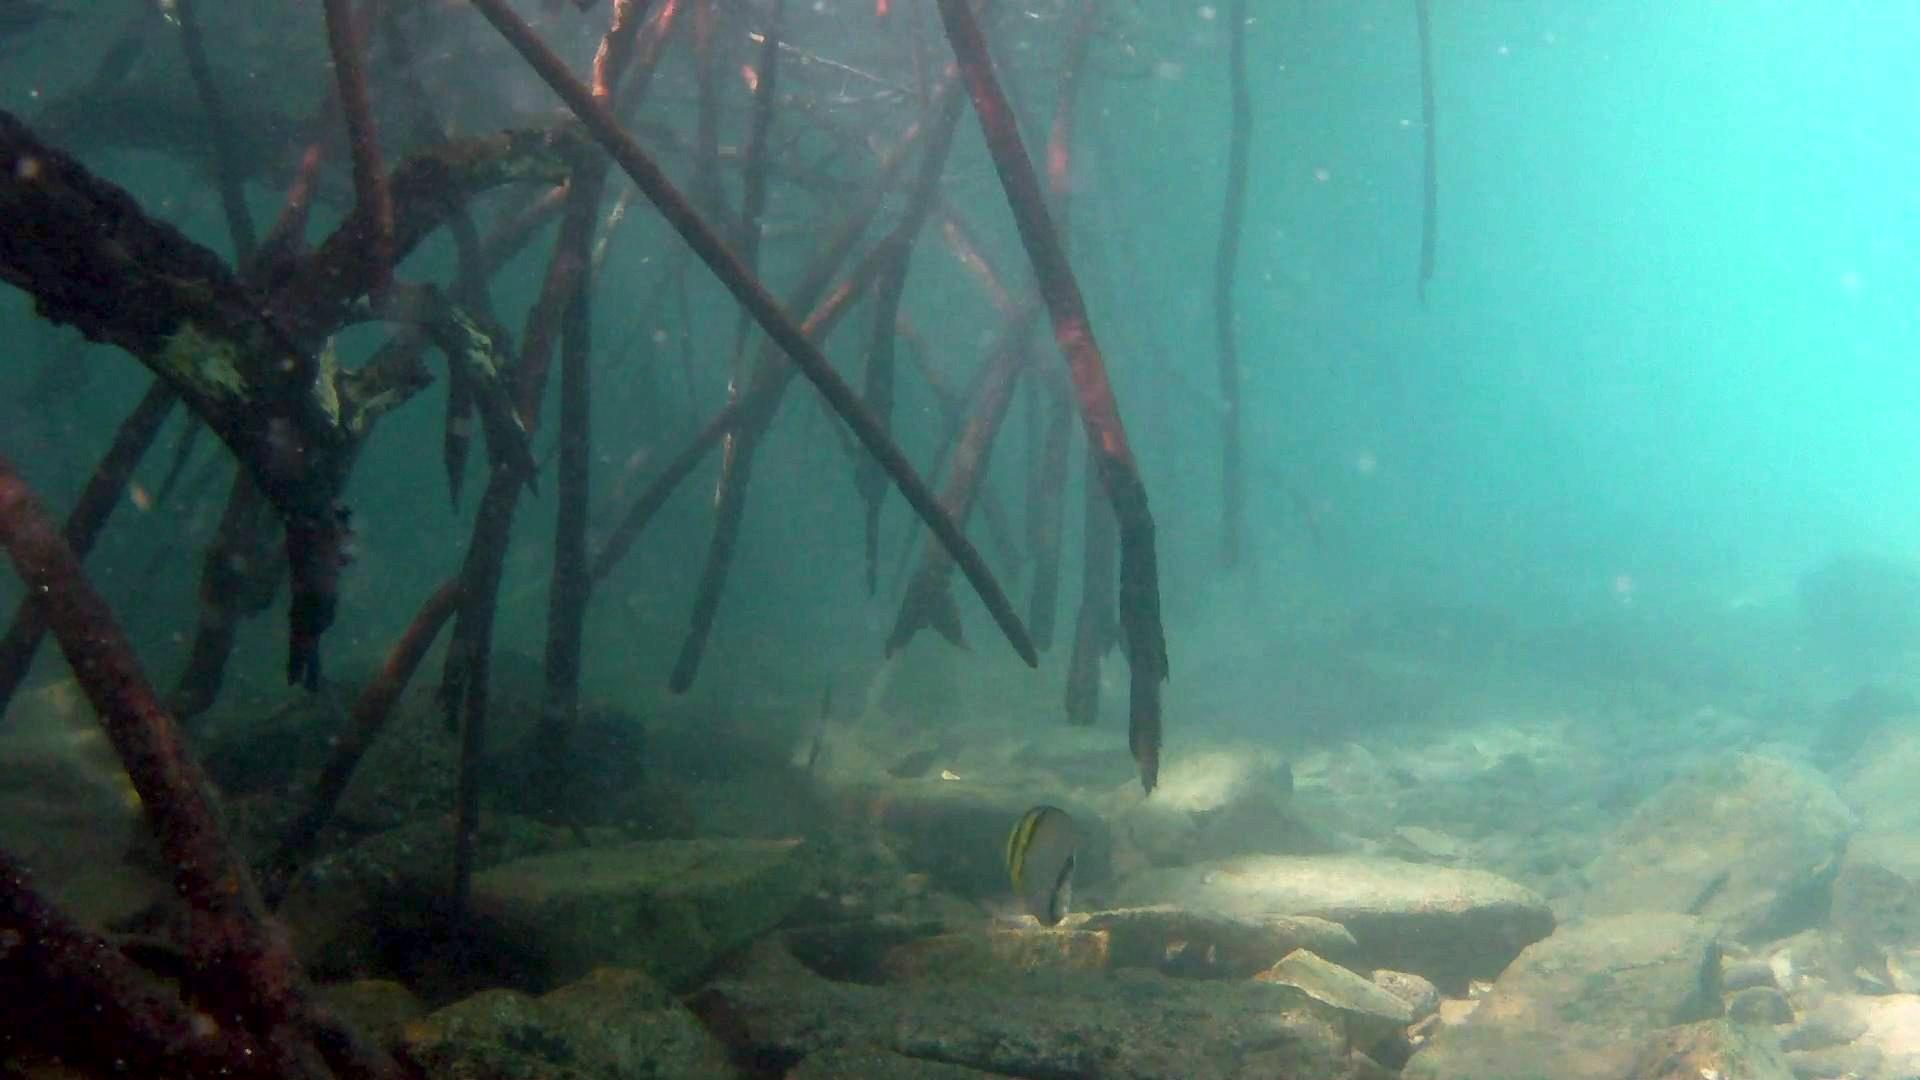chaetodon vagabundus: (1003, 802, 1079, 930)
